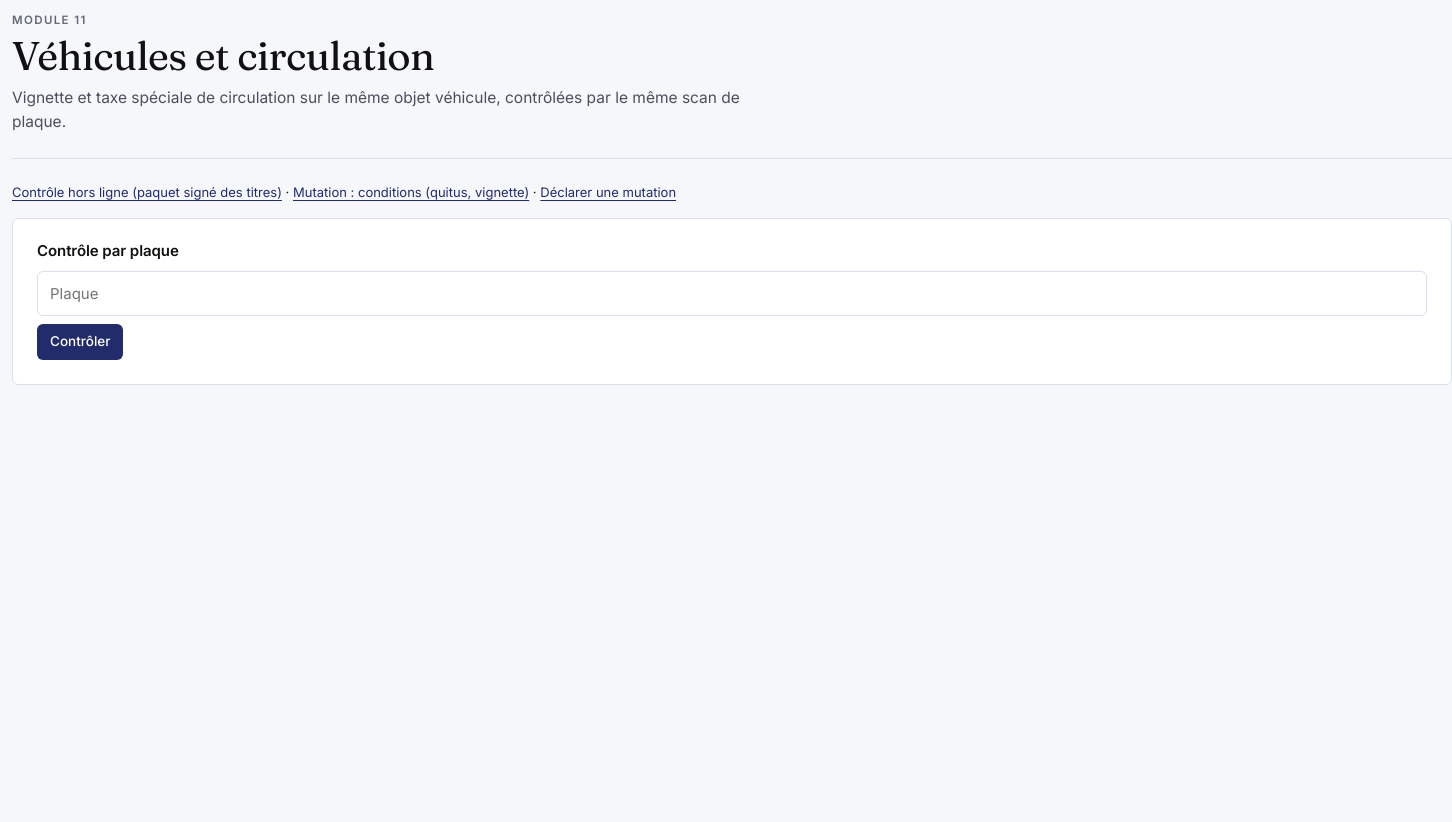
Test: Écrans des modules 7 à 12 et indicateurs › véhicules : contrôle par plaque « payée / non régularisée » avec dernier paiement
Type "KN-4471-BD" into the field labelled "Plaque" at (732, 293), box [37,271,1427,316]
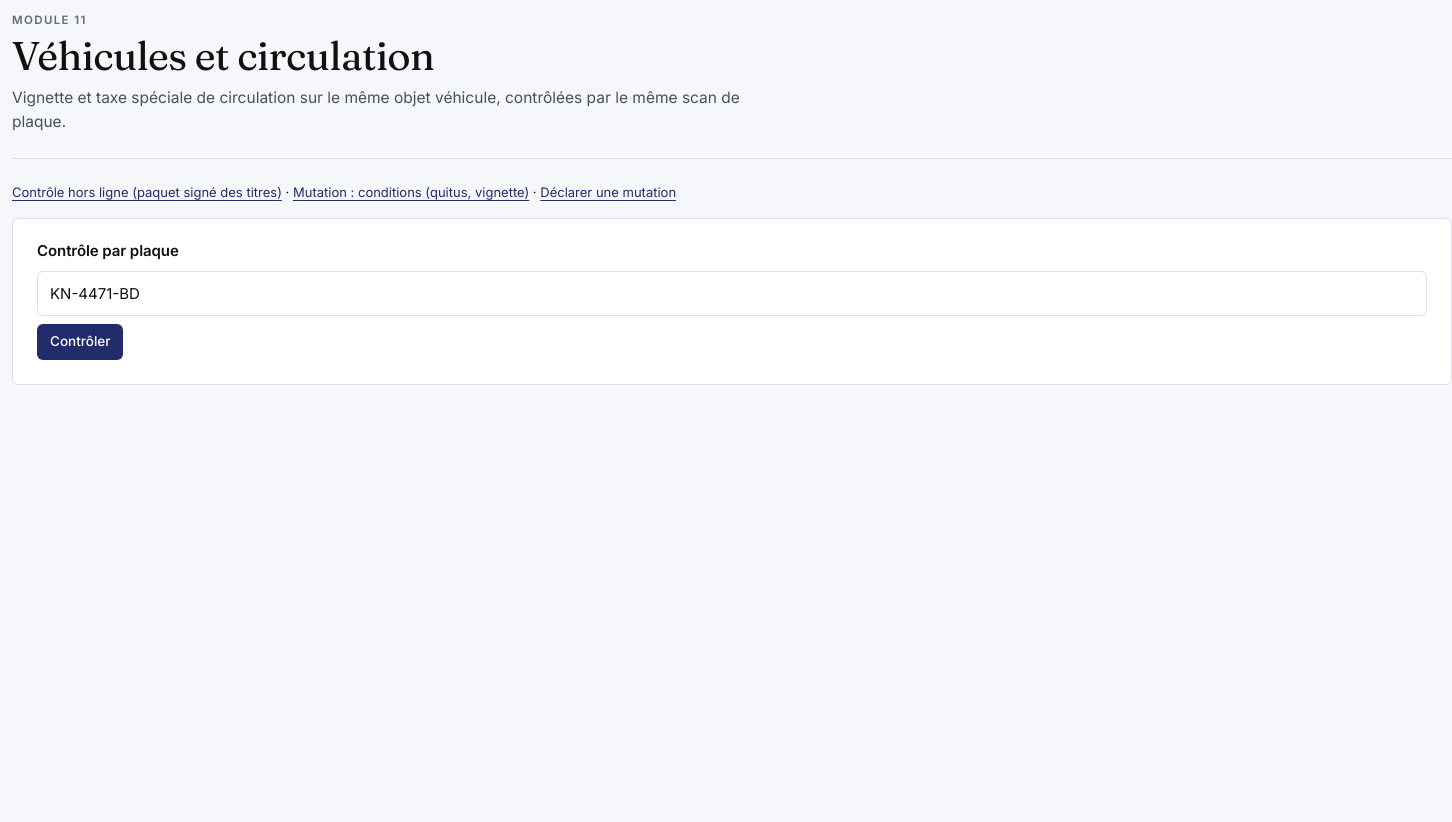
Click the button "Contrôler" at (80, 342), box [37,324,124,360]
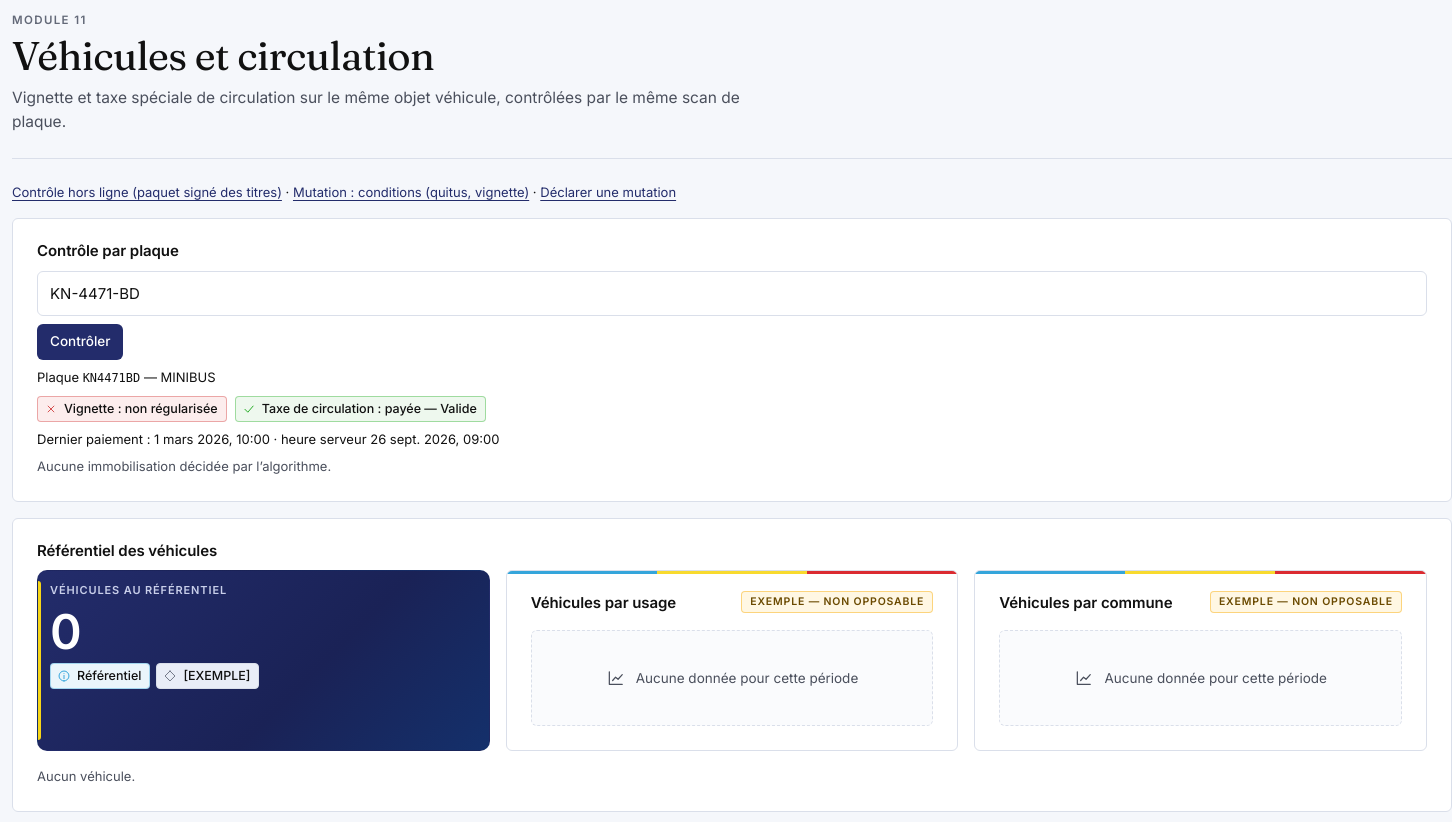
Result: the text "Vignette : non régularisée" is shown at [64,399,218,419]
Result: the text "Taxe de circulation : payée — Valide" is shown at [262,399,477,419]
Result: the text "Aucune immobilisation décidée par l’algorithme." is shown at [37,458,331,474]
